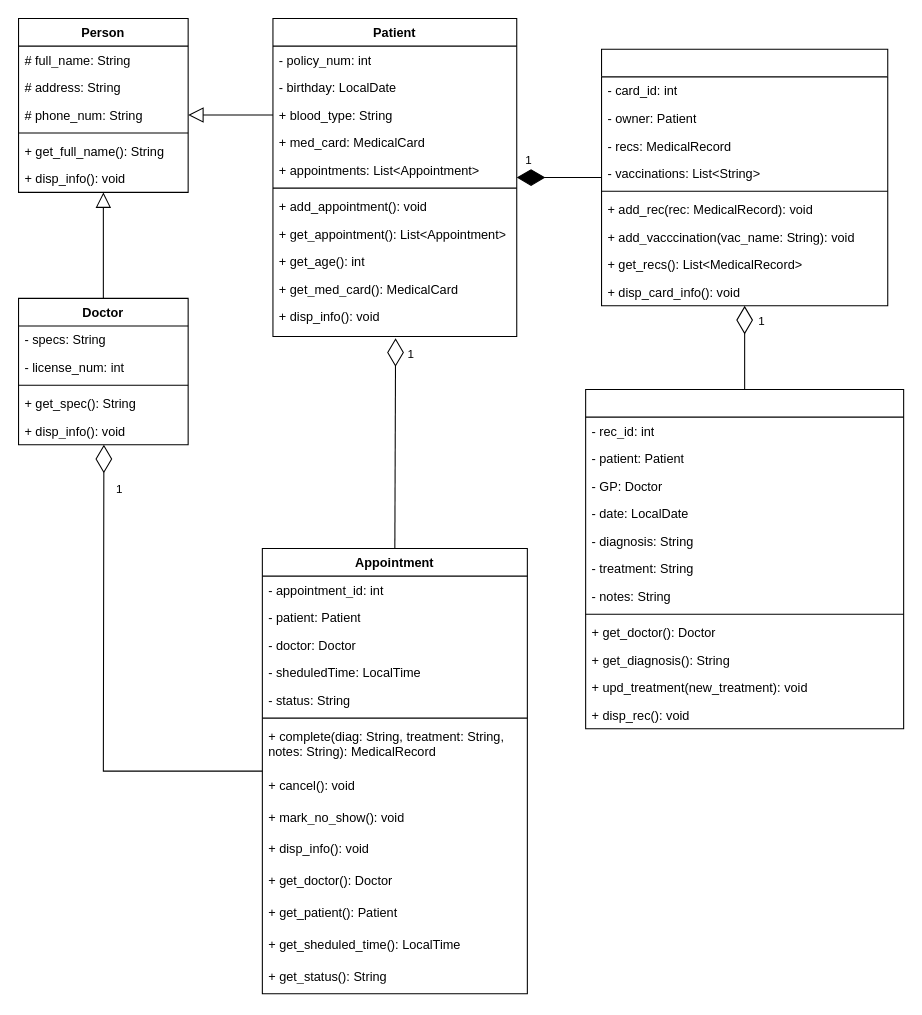
The diagram is 922 pixels wide and 1015 high, and some of its shapes have lost their labels. Each missing label, with the box of its shape:
MedicalCard: (600, 48, 888, 306)
MedicalRecord: (585, 388, 904, 729)
